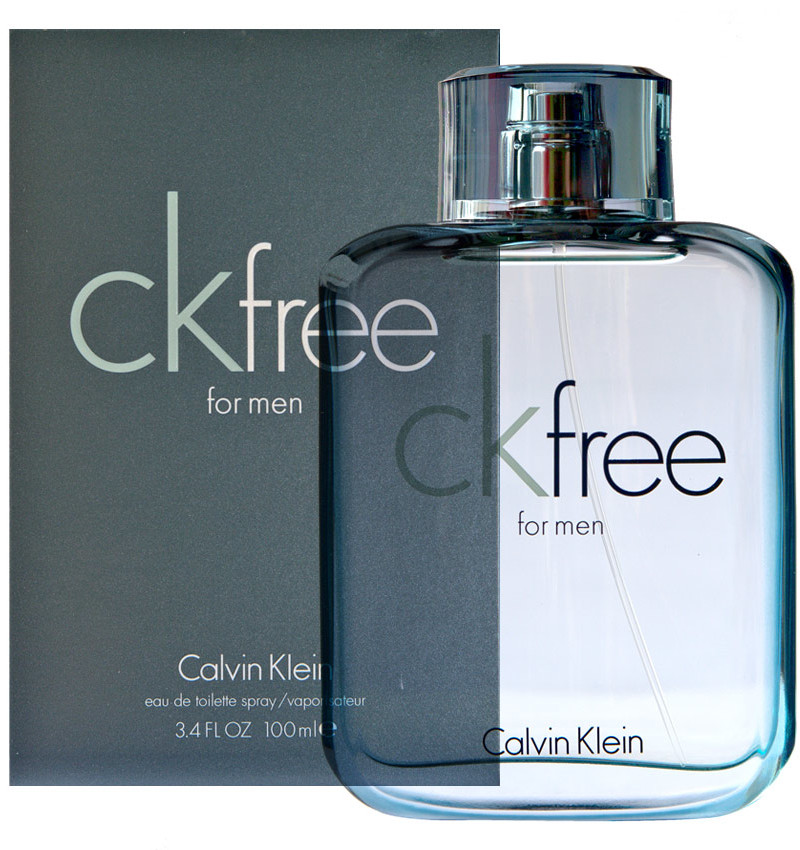Calvin Klein: (57, 166, 249, 379), (395, 313, 556, 507), (472, 712, 679, 779), (178, 649, 343, 689)
